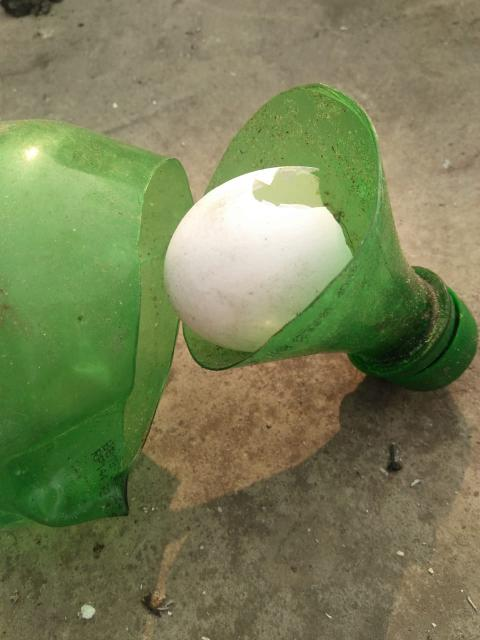Roto: (159, 167, 352, 352)
